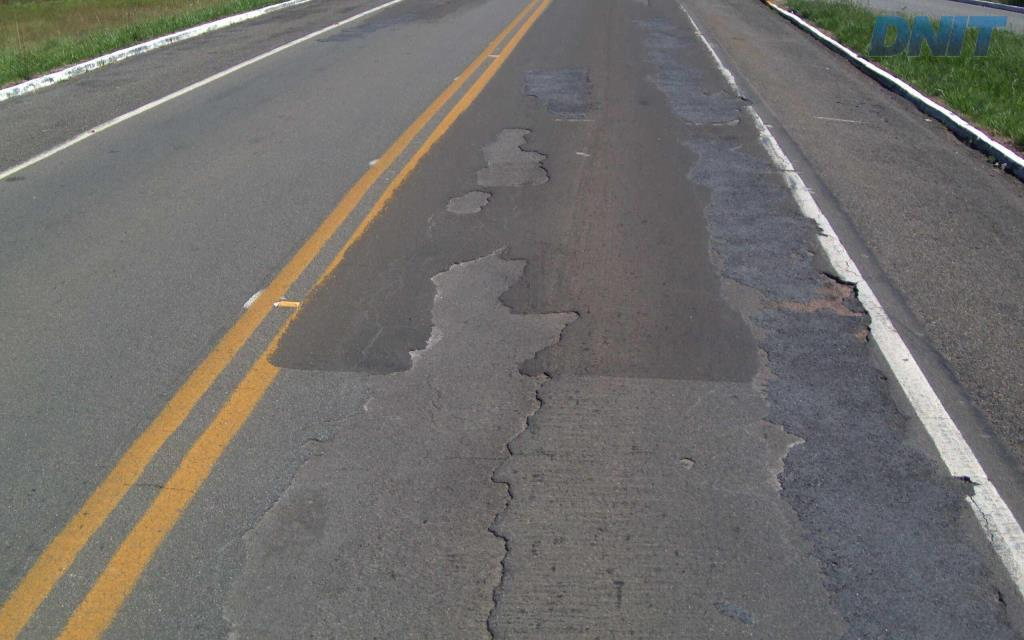pothole: (195, 236, 589, 638), (469, 123, 552, 192), (809, 267, 868, 319), (437, 188, 495, 218)
